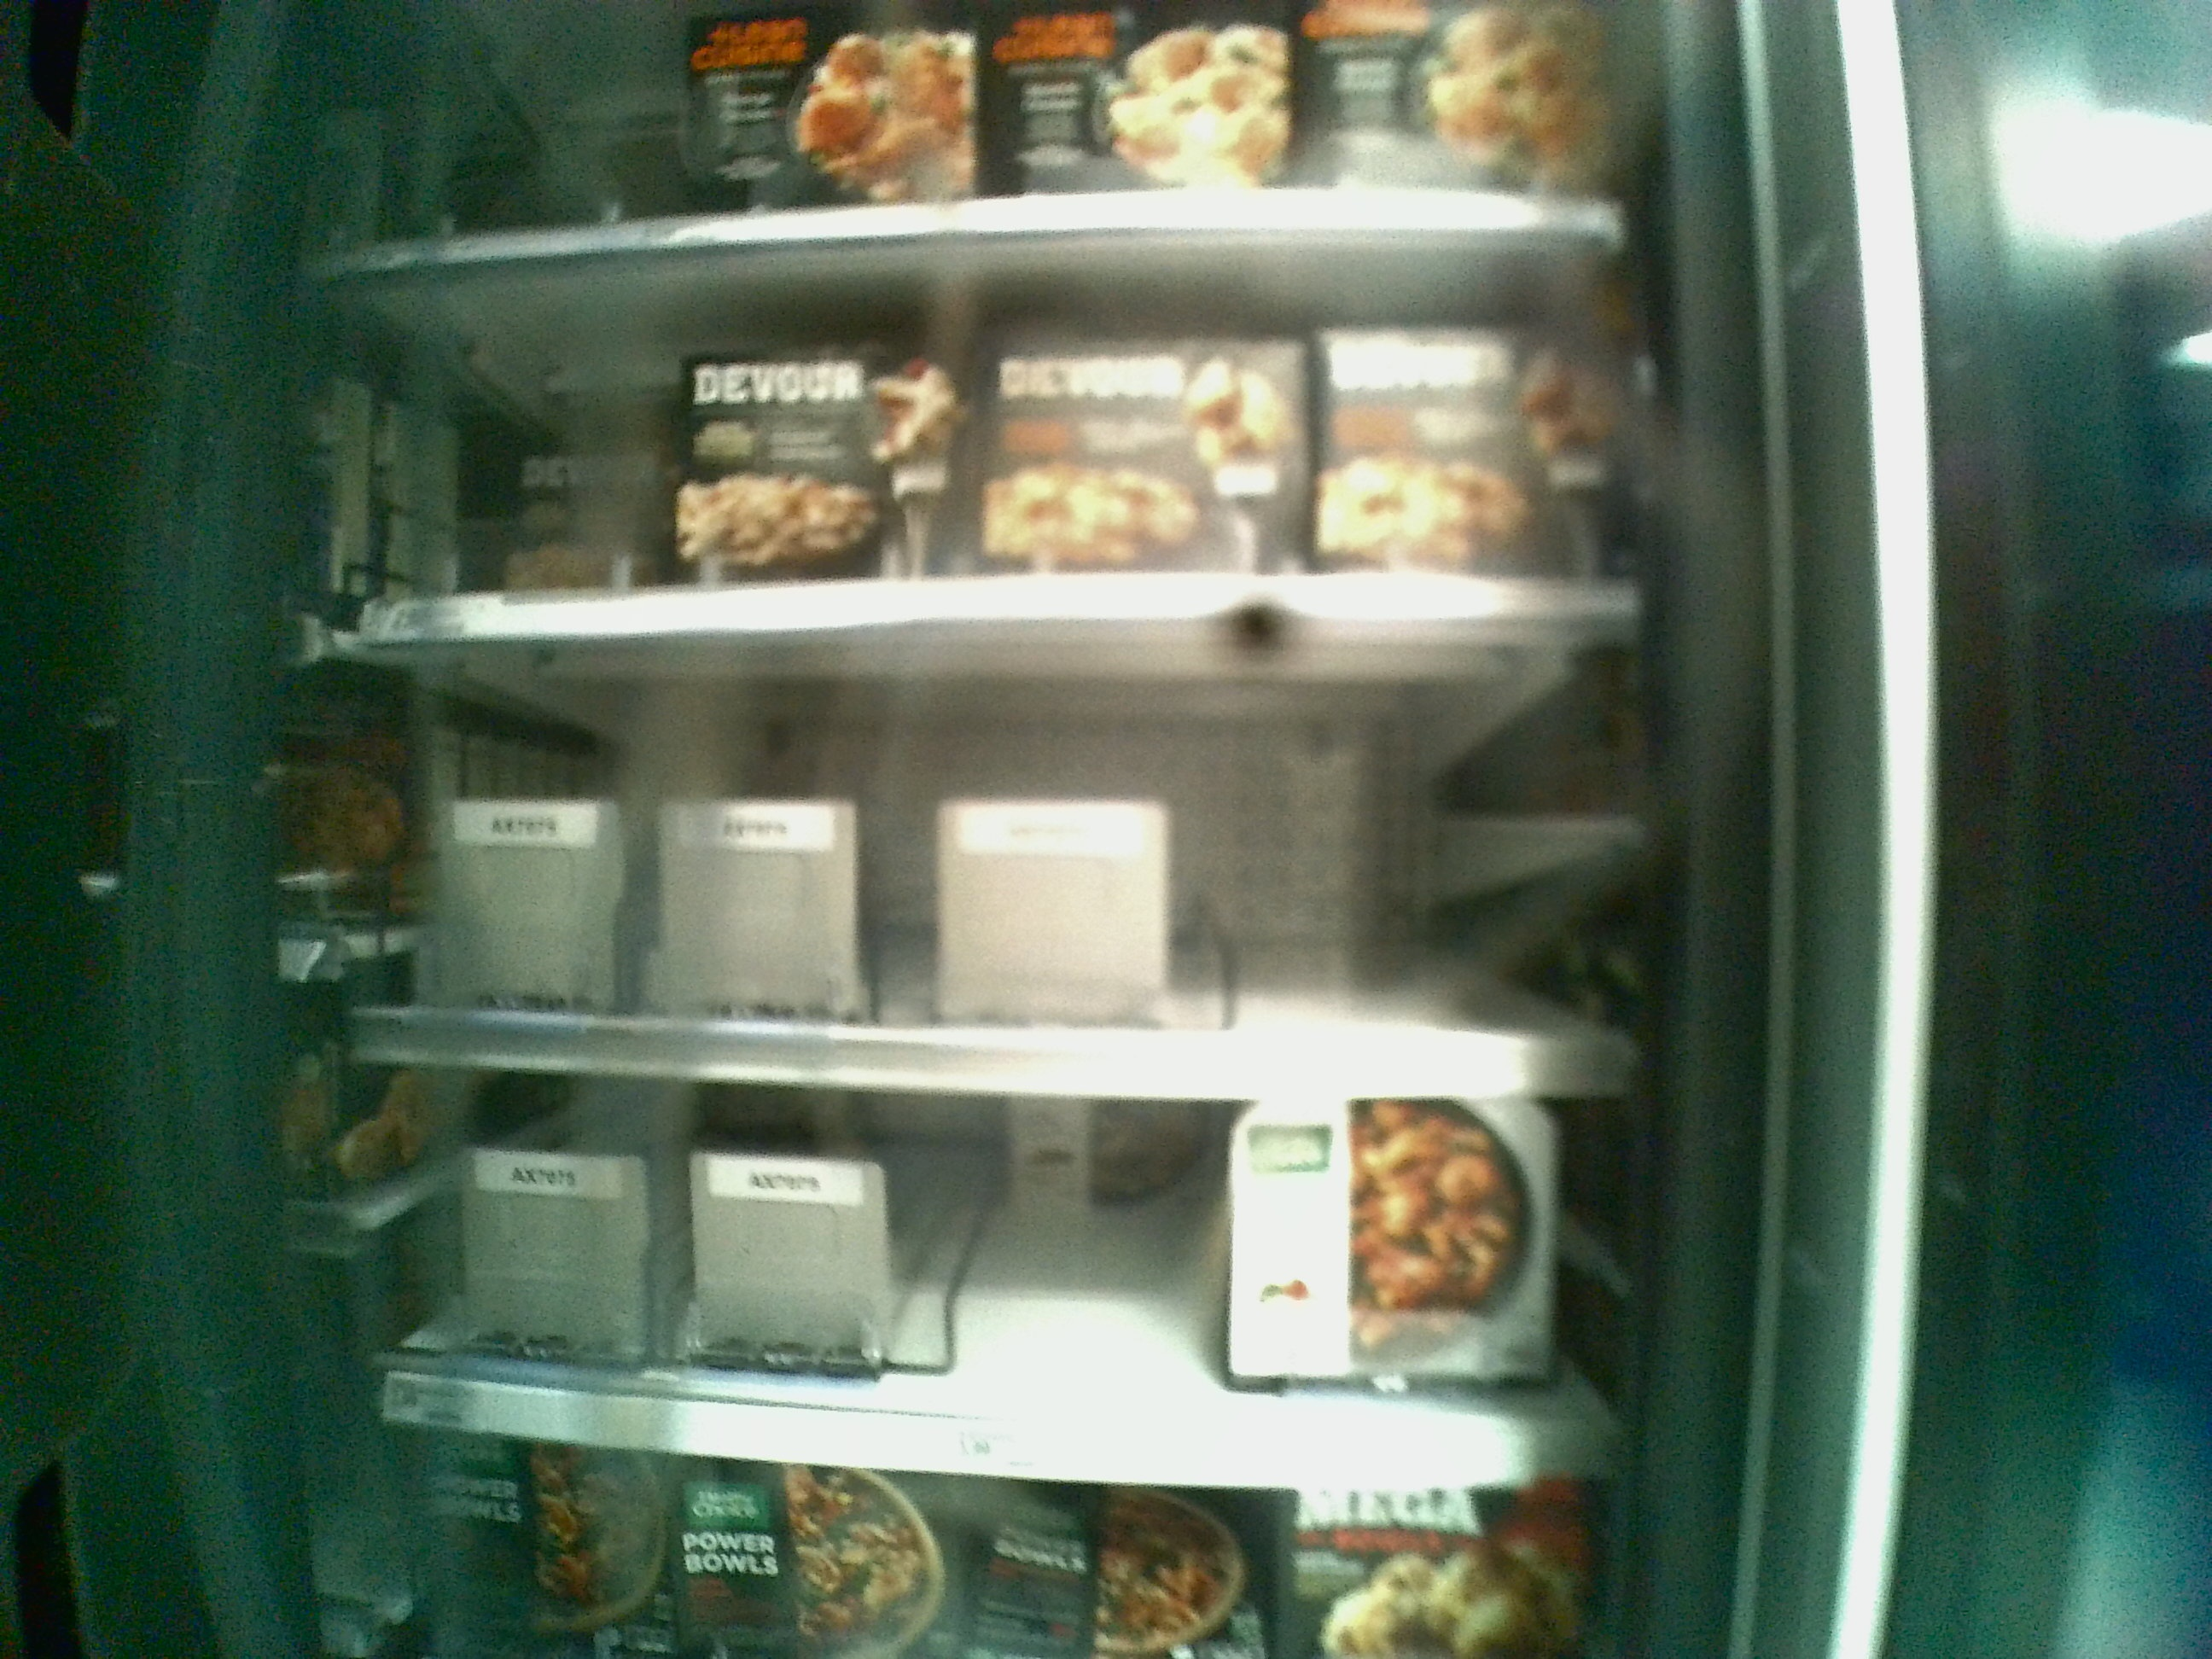shelf: (347, 627, 1649, 1098), (348, 1058, 1646, 1485), (320, 234, 1635, 633)
